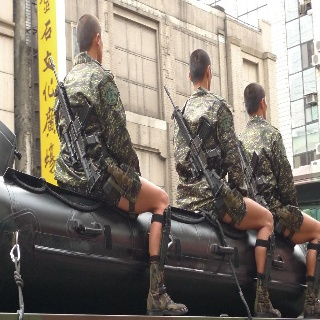rifle: (48, 55, 106, 196), (161, 83, 224, 199), (235, 143, 268, 205)
